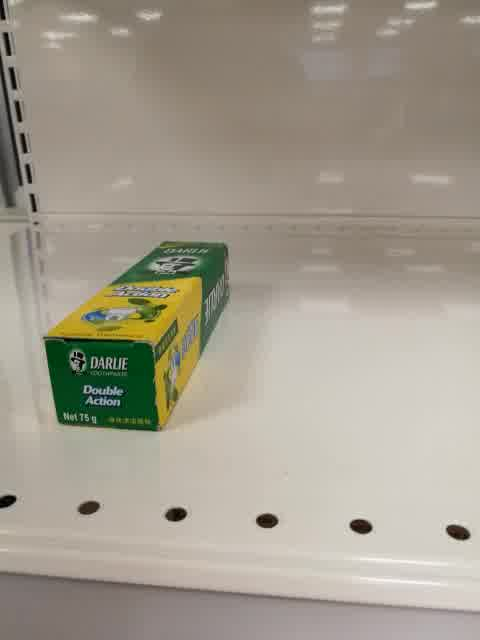toothpaste: (42, 240, 232, 435)
